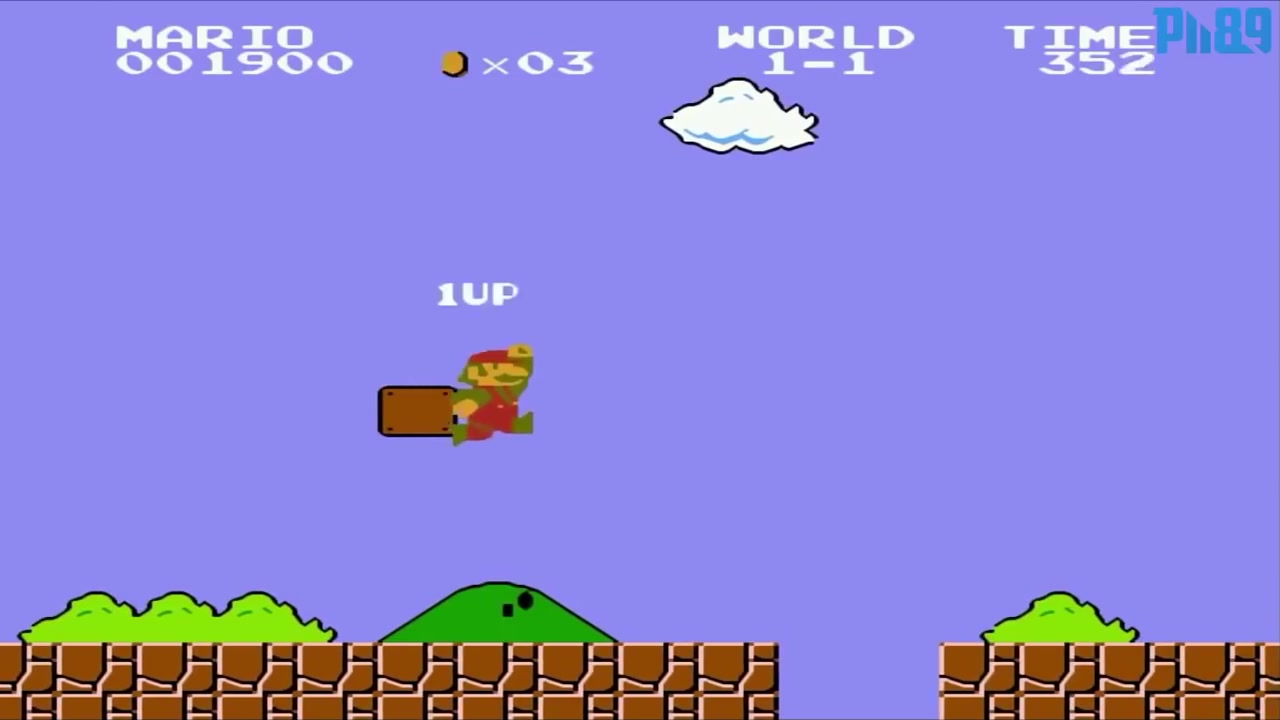mario: (452, 340, 546, 454)
